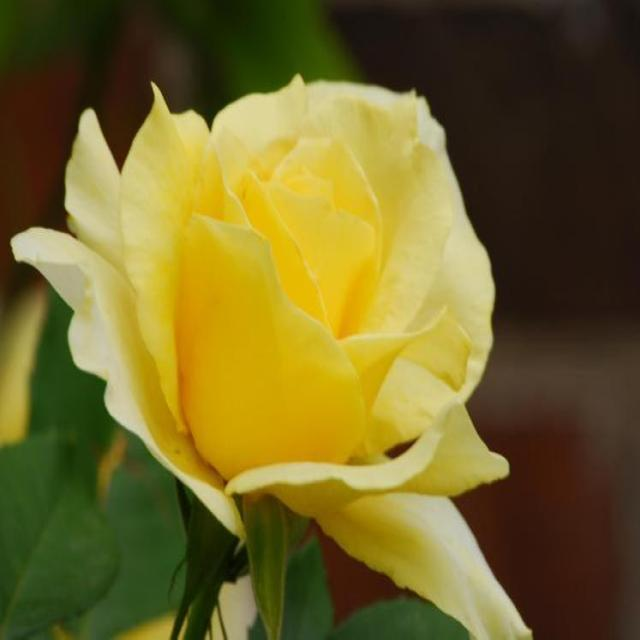rose: (11, 57, 556, 640)
